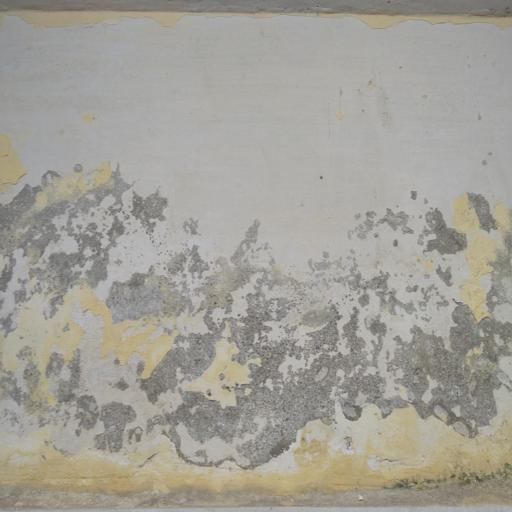peeling: (0, 0, 508, 458)
